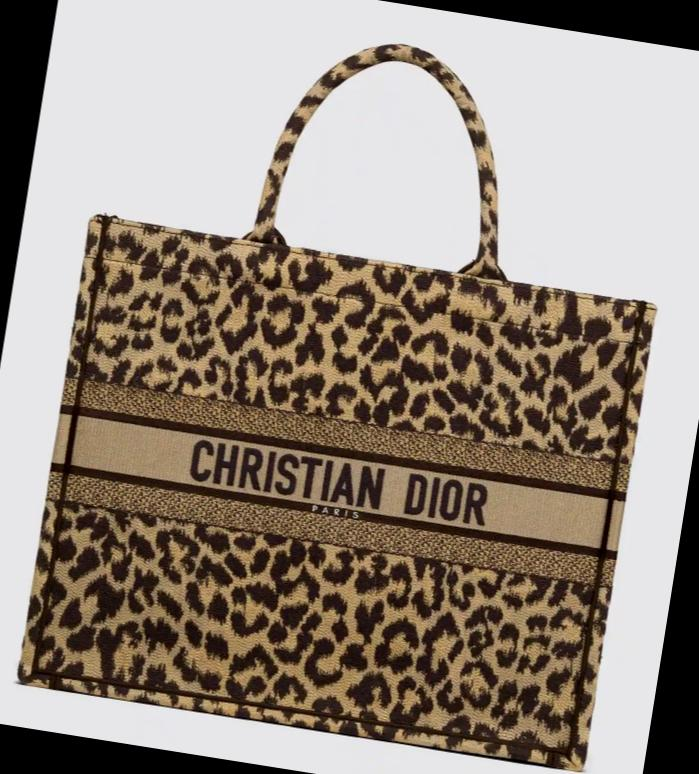DIOR: (167, 402, 514, 560)
